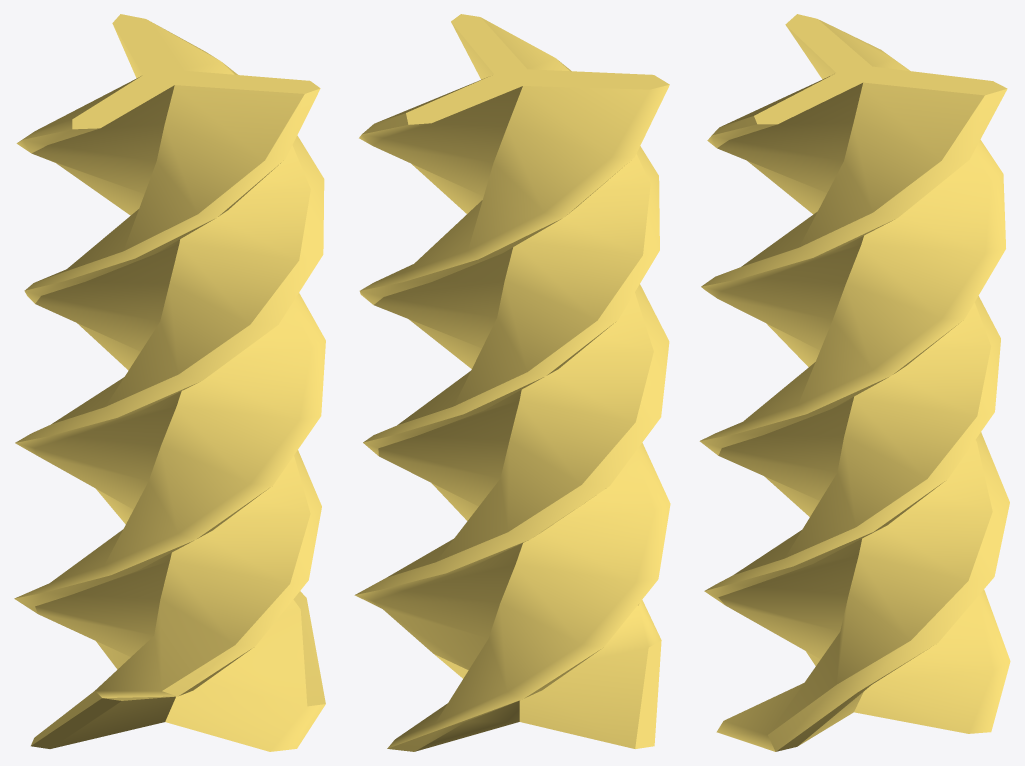
Rendered from Pasta2.fbx.
3 renders of one model, left to right at view 1: azimuth 30°, elevation 25°; view 2: azimuth 150°, elevation 25°; view 3: azimuth 270°, elevation 25°, orthographic.
Visible parts, largest first — view 1: pasta2; view 2: pasta2; view 3: pasta2.
Boxes of the visible parts, x1,y1,x2,y2 form: pasta2: [14, 14, 325, 751]; pasta2: [354, 14, 670, 751]; pasta2: [699, 14, 1010, 751].
Size of the model in its own units: 25.58 by 55.82 by 25.02.
